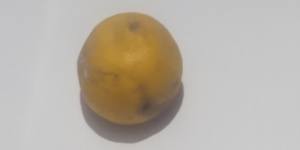BAD: (78, 9, 181, 128)
